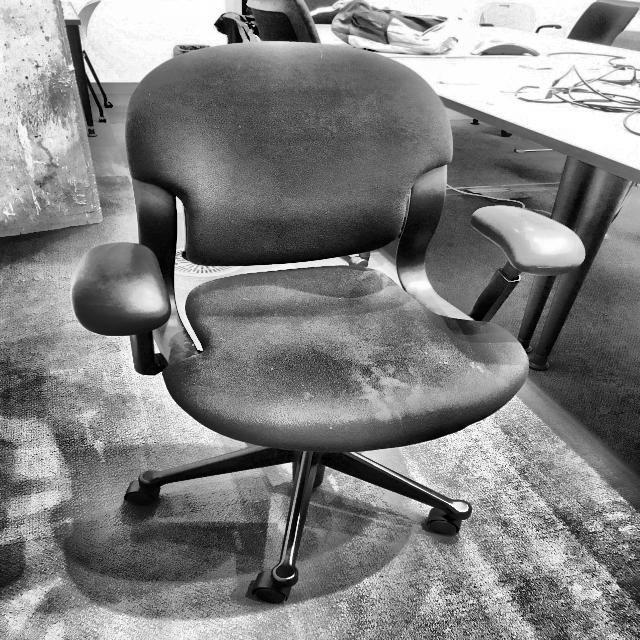chair: (77, 41, 592, 604)
